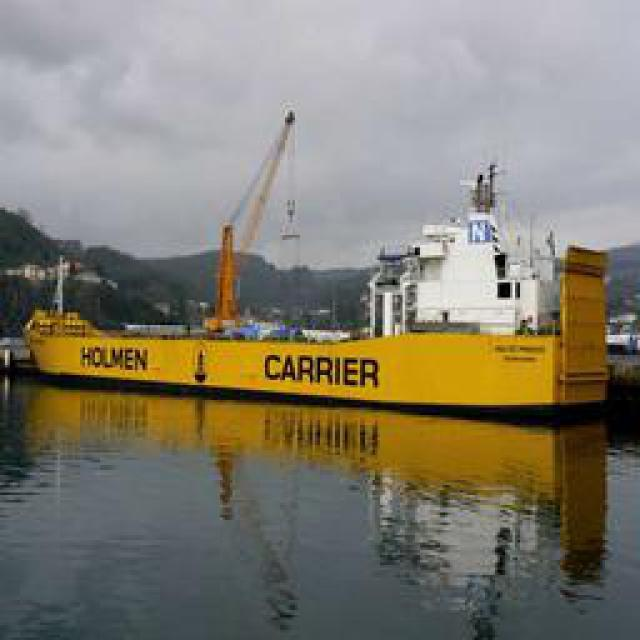Ship: (31, 115, 619, 413)
